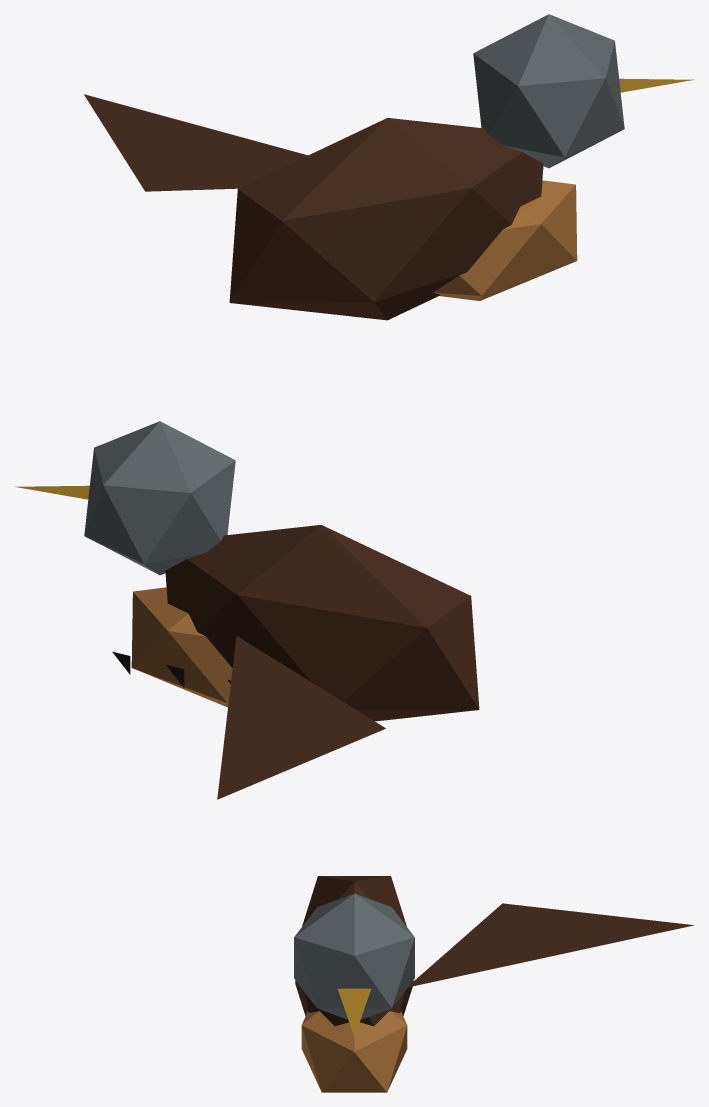
File: fieldfare.glb
3 renders of one model, top to bottom at view 1: azimuth 30°, elevation 25°; view 2: azimuth 150°, elevation 25°; view 3: azimuth 270°, elevation 25°, orthographic. The views are drawn at different scales.
Visible parts, largest first — view 1: fieldfare; view 2: fieldfare; view 3: fieldfare.
Boxes of the visible parts, box(x1,y1,x2,y2) form: fieldfare: box(84, 14, 694, 320); fieldfare: box(14, 421, 479, 799); fieldfare: box(294, 876, 693, 1092).
Size of the model in its own units: 0.42 by 0.168 by 0.46.
